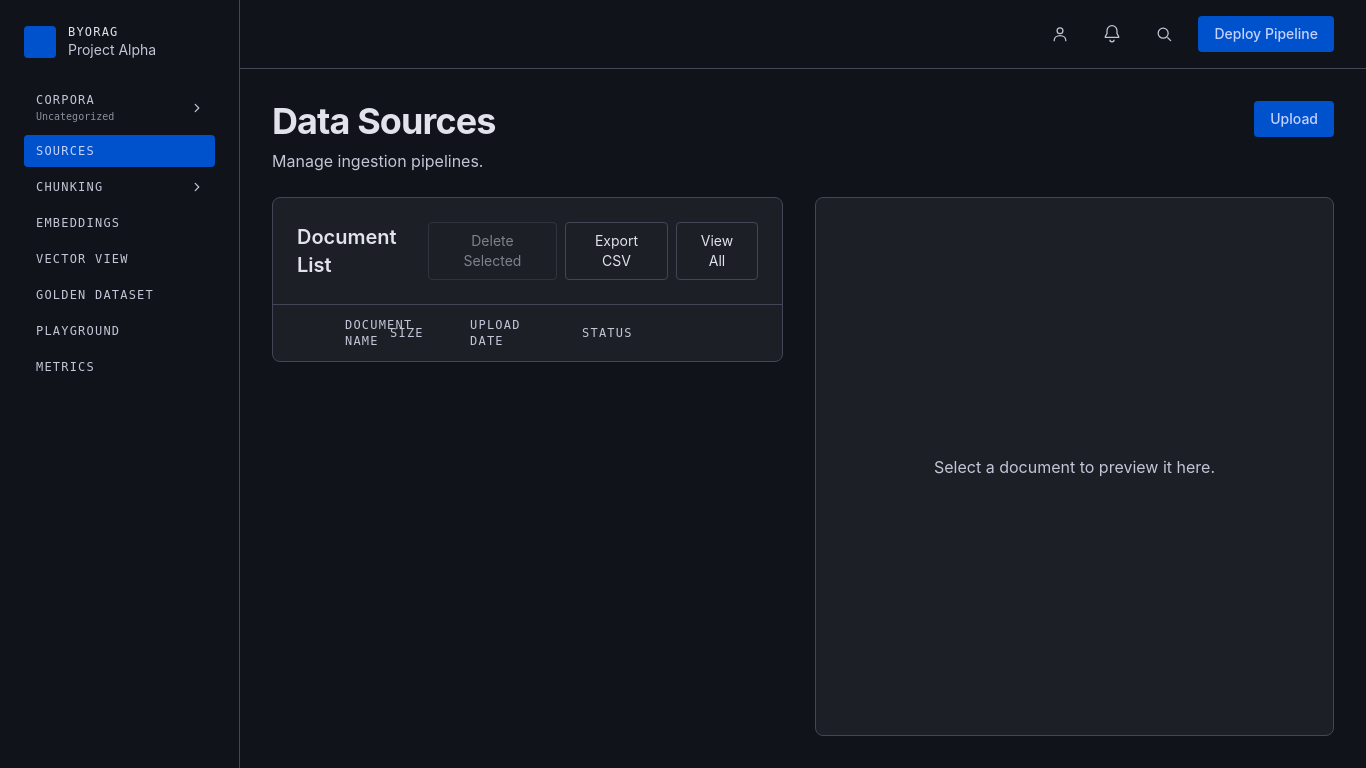
Test: App navigation › renders the Vector View screen after navigating there from the sidebar
What coordinates should you click on to do the following:
click the link "VECTOR VIEW"
I would click on:
 (82, 259)
Its box is [36,252,129,266].
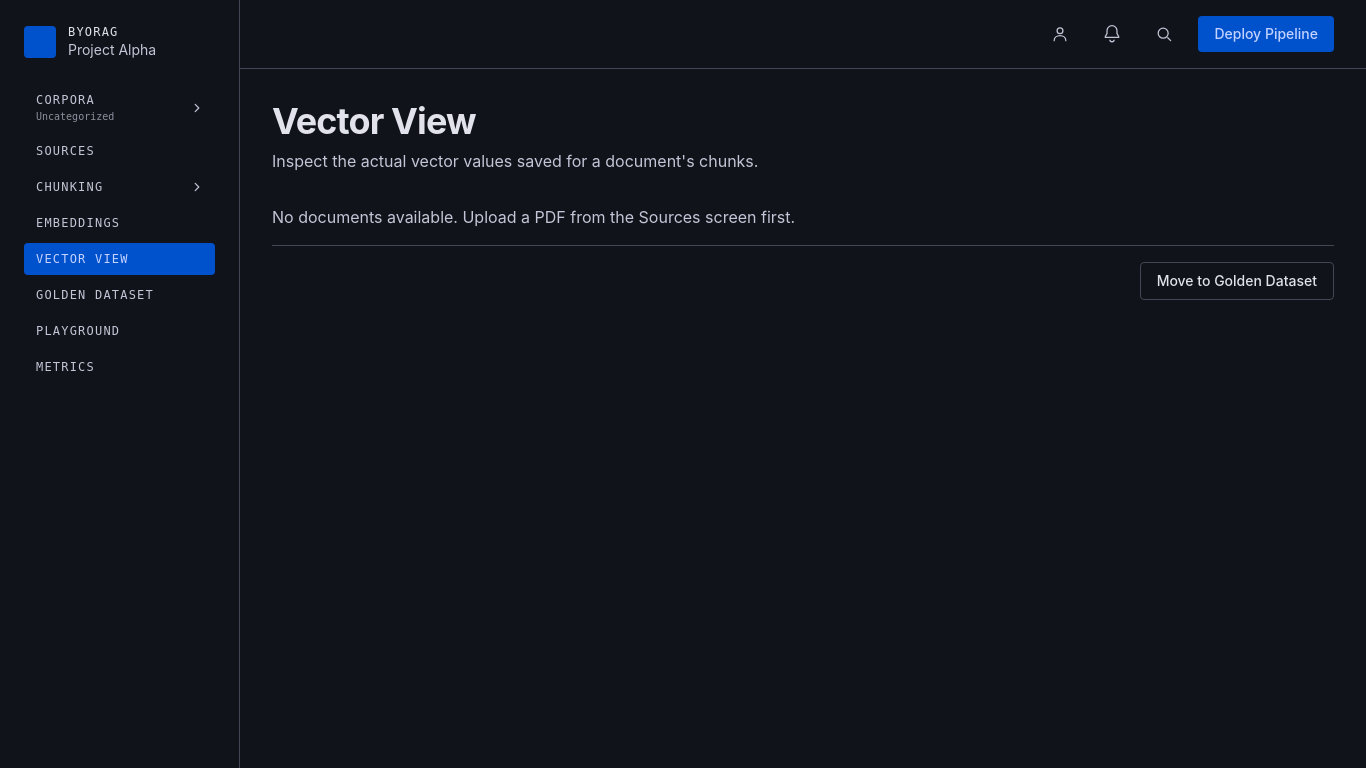
Now the heading "Vector View" is shown, box [272,99,476,143]
Now the heading "Data Sources" is gone
